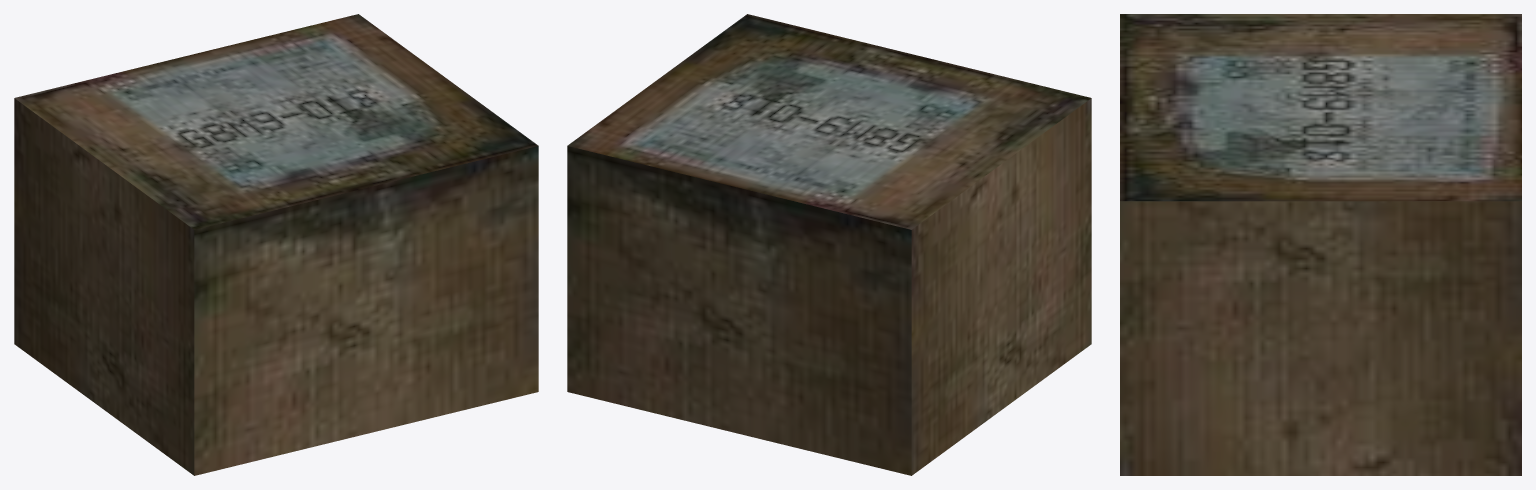
File: cardboard_box004a.glb
3 views of the same model, side by side, from view 1: azimuth 30°, elevation 25°; view 2: azimuth 150°, elevation 25°; view 3: azimuth 270°, elevation 25° (orthographic). The views are drawn at different scales.
Visible parts, largest first — view 1: 0_Cardboard_boxes001a; view 2: 0_Cardboard_boxes001a; view 3: 0_Cardboard_boxes001a.
Part boxes in pixels (x1,y1,x2,y2): 0_Cardboard_boxes001a: (14, 14, 538, 475); 0_Cardboard_boxes001a: (567, 14, 1091, 475); 0_Cardboard_boxes001a: (1120, 14, 1521, 475).
Bounding box in the file's own units: 0.3008 × 0.2054 × 0.2725.
Materials: 1 (1 with a texture image).
